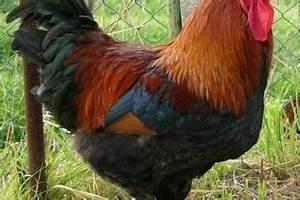hen: (5, 0, 275, 199)
